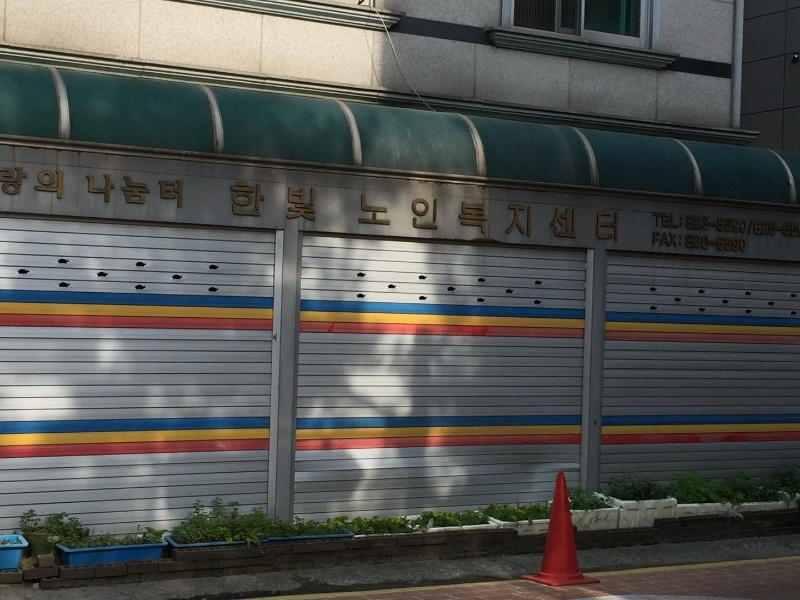text: (369, 192, 384, 245), (385, 192, 400, 245), (401, 192, 416, 245), (417, 192, 432, 245), (433, 192, 448, 245), (449, 192, 464, 245), (465, 192, 480, 245), (481, 192, 496, 245), (497, 192, 512, 245), (513, 192, 528, 245), (529, 192, 544, 245), (545, 192, 560, 245), (561, 192, 576, 245), (577, 192, 592, 245), (593, 192, 608, 245), (609, 192, 621, 245), (241, 182, 256, 222), (257, 182, 272, 222), (273, 182, 288, 222), (289, 182, 304, 222), (97, 172, 112, 209), (113, 172, 128, 209), (129, 172, 144, 209), (145, 172, 160, 209), (161, 172, 176, 209), (358, 192, 368, 245), (1, 167, 16, 200), (17, 167, 32, 200), (33, 167, 48, 200), (49, 167, 64, 200), (305, 182, 317, 222), (230, 182, 240, 222), (86, 172, 96, 209), (689, 215, 704, 239), (705, 215, 720, 239), (721, 215, 736, 239), (737, 215, 752, 239), (753, 215, 768, 239), (769, 215, 784, 239), (785, 215, 799, 239), (689, 233, 704, 253), (705, 233, 720, 253), (721, 233, 736, 253), (657, 211, 672, 230), (657, 230, 672, 249), (177, 172, 184, 209), (673, 211, 684, 230), (737, 233, 747, 253), (673, 230, 683, 249), (652, 211, 656, 230), (652, 230, 656, 249), (685, 233, 688, 253), (686, 215, 688, 239)
